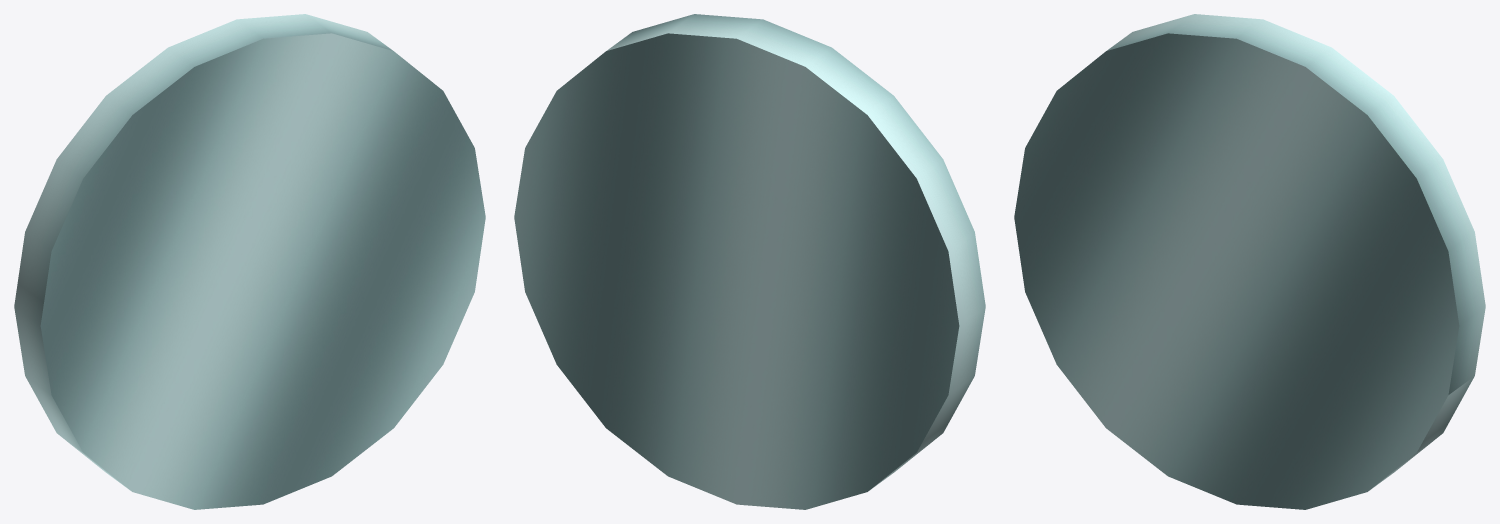
File: vidriopcocina1.obj
The picture shows the model from 3 angles, left to right: view 1: azimuth 30°, elevation 25°; view 2: azimuth 150°, elevation 25°; view 3: azimuth 330°, elevation 25°; orthographic projection.
Visible parts, largest first — view 1: pCylinder1; view 2: pCylinder1; view 3: pCylinder1.
Boxes of the visible parts, x1,y1,x2,y2 form: pCylinder1: (14, 14, 485, 509); pCylinder1: (514, 14, 985, 509); pCylinder1: (1014, 14, 1485, 509).
Size of the model in its own units: 0.7736 by 0.7736 by 0.0796.
Materials: 1 (1 with a texture image).
